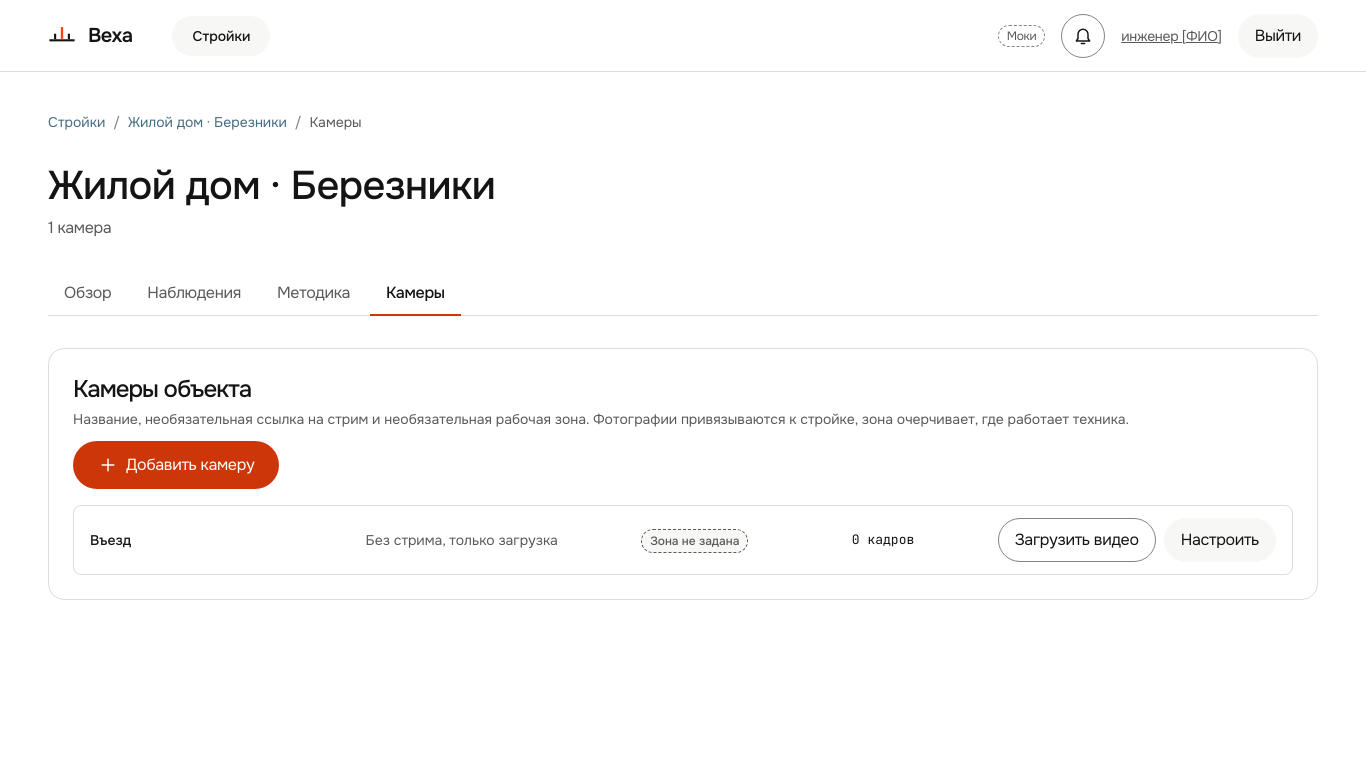
it: VideoUploadDialog › opens for the camera from its row
Step 1. Click the button with aria-label "Загрузить видео камеры Въезд" → [1077, 540], box [998,518,1156,562]
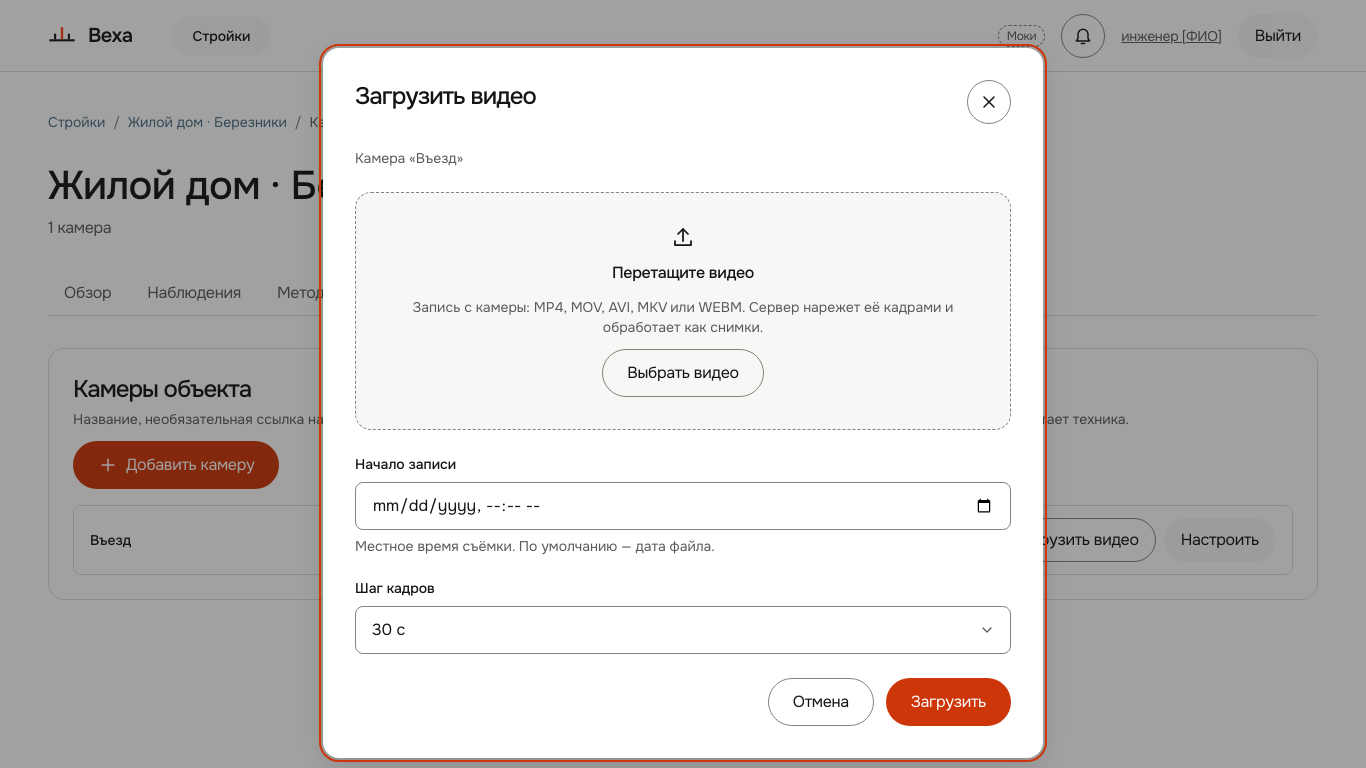
Expected: the text "Камера «Въезд»" is shown, [355,149,463,167]
